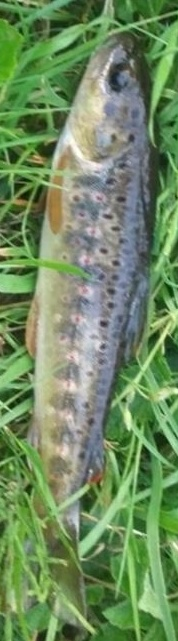Salmo trutta subsp. fario: (20, 20, 158, 621)
